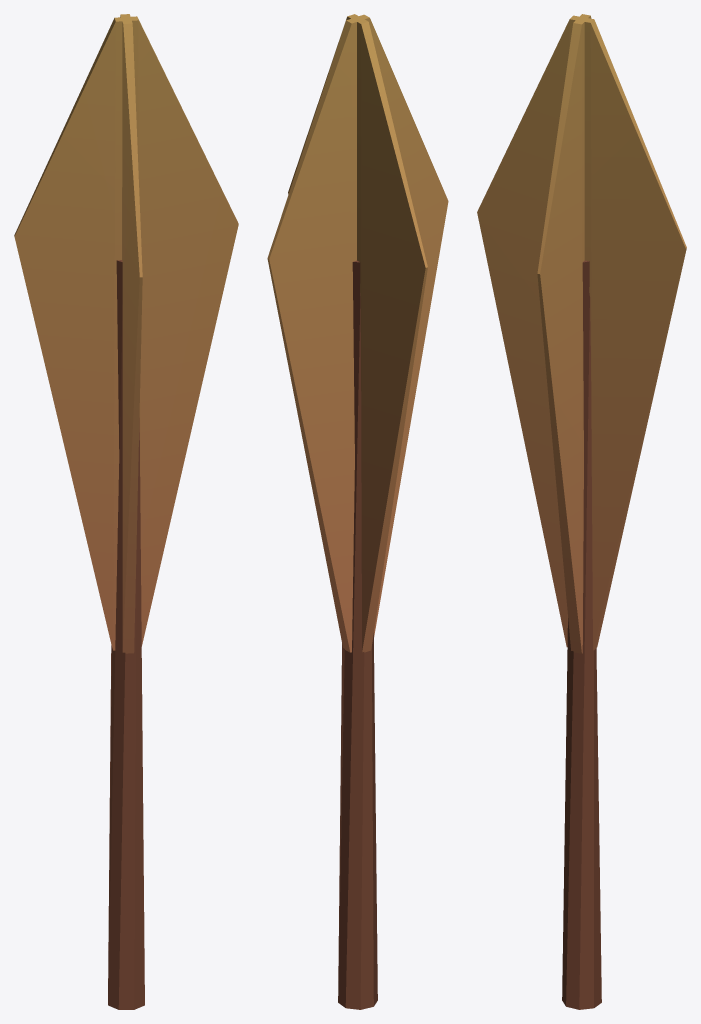
The model's file is Tree_30_gradient_yellow_vc.fbx.
The picture shows the model from 3 angles, left to right: view 1: azimuth 30°, elevation 25°; view 2: azimuth 150°, elevation 25°; view 3: azimuth 270°, elevation 25°; orthographic projection.
Visible parts, largest first — view 1: Tree_30_gradient_yellow_vc; view 2: Tree_30_gradient_yellow_vc; view 3: Tree_30_gradient_yellow_vc.
Part boxes in pixels (<box>): Tree_30_gradient_yellow_vc: <box>14,14,238,1009</box>; Tree_30_gradient_yellow_vc: <box>267,14,448,1009</box>; Tree_30_gradient_yellow_vc: <box>477,14,686,1009</box>.
Bounding box in the file's own units: 48.99 × 253 × 48.99.
